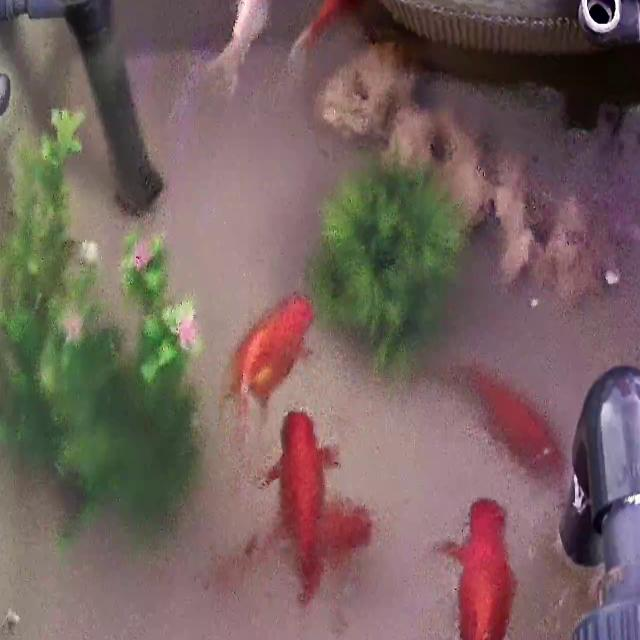fish: (434, 492, 533, 640), (454, 368, 566, 478), (227, 508, 382, 587), (268, 406, 329, 594), (226, 291, 316, 412), (202, 0, 277, 99), (306, 0, 366, 47)
